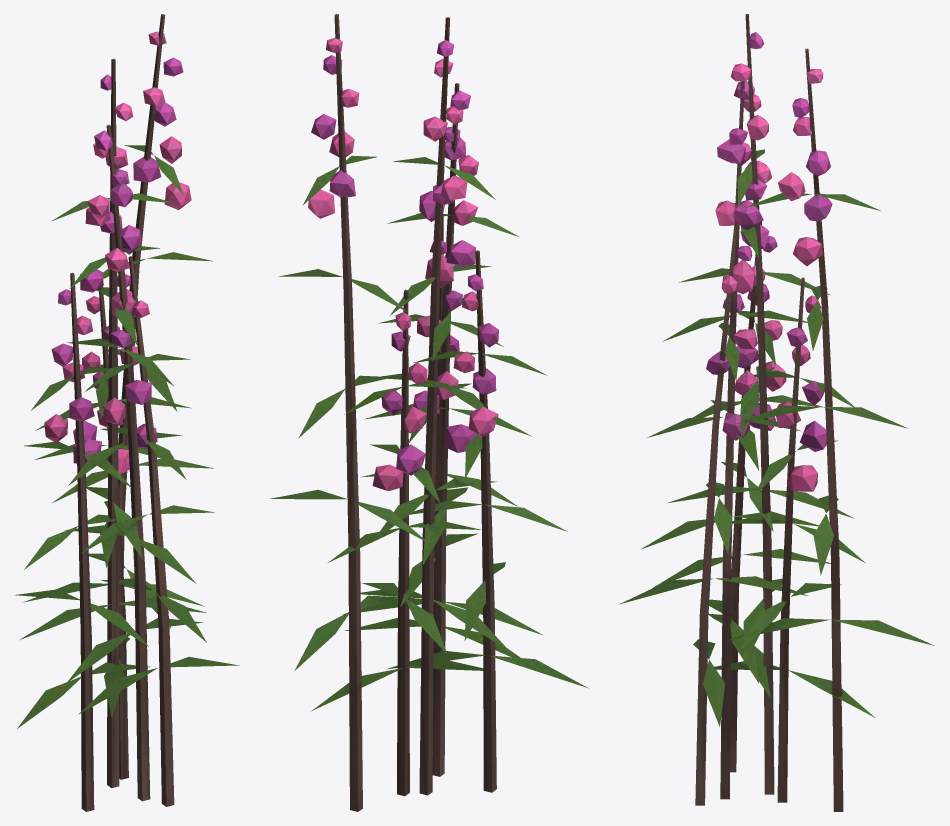
The model's file is flowers_fireweed_idle.glb.
3 renders of one model, left to right at view 1: azimuth 30°, elevation 25°; view 2: azimuth 150°, elevation 25°; view 3: azimuth 270°, elevation 25°, orthographic. The views are drawn at different scales.
Visible parts, largest first — view 1: flowers_fireweed; view 2: flowers_fireweed; view 3: flowers_fireweed.
Boxes of the visible parts, <box> form: flowers_fireweed: <box>15,14,239,811</box>; flowers_fireweed: <box>270,14,588,811</box>; flowers_fireweed: <box>619,14,934,811</box>.
Size of the model in its own units: 0.4058 by 1.14 by 0.4203.
1 material, 1 textured.
